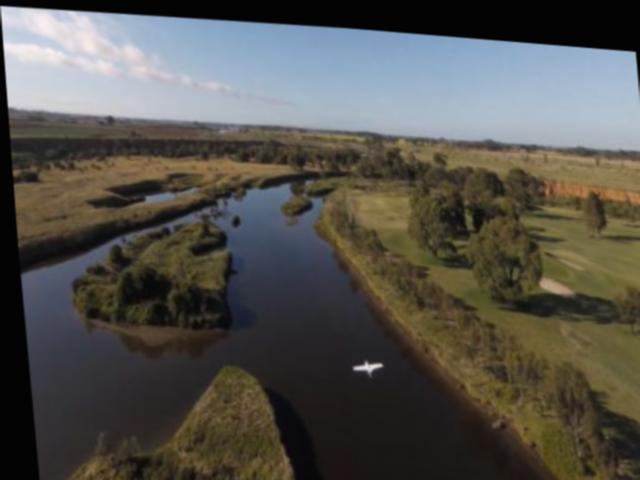uav: (346, 345, 380, 377)
